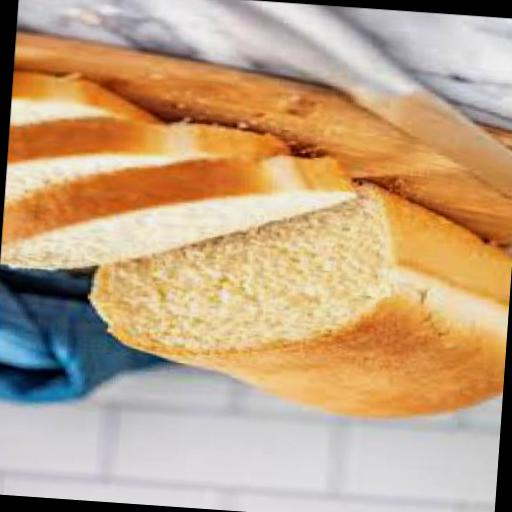biodegradable: (84, 163, 512, 430), (2, 137, 368, 296), (6, 110, 300, 220), (11, 70, 169, 141)
metal: (153, 0, 512, 198)
